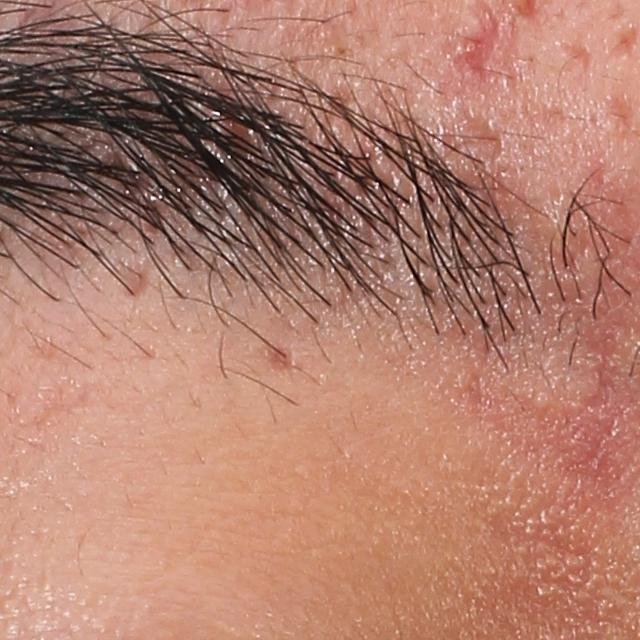atrophic_scar: (459, 108, 511, 162), (557, 25, 598, 80), (603, 22, 638, 63), (266, 343, 297, 373), (124, 262, 149, 297)
comedo: (530, 389, 550, 408)
